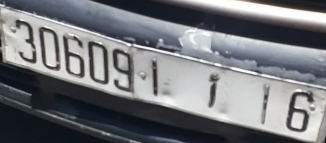0: (38, 27, 63, 72), (86, 40, 108, 85)
3: (13, 18, 38, 65)
6: (283, 86, 316, 134), (62, 32, 84, 80)
9: (110, 47, 136, 91)
a: (202, 70, 224, 111)
